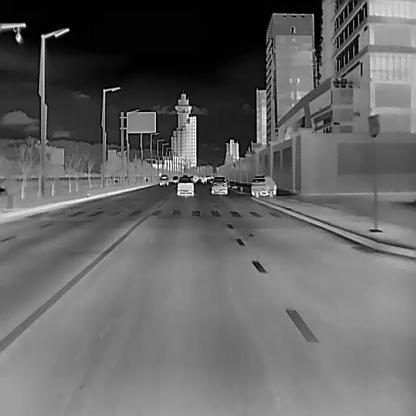car: (250, 173, 276, 196), (176, 174, 193, 196), (210, 176, 228, 193), (158, 173, 168, 185)
